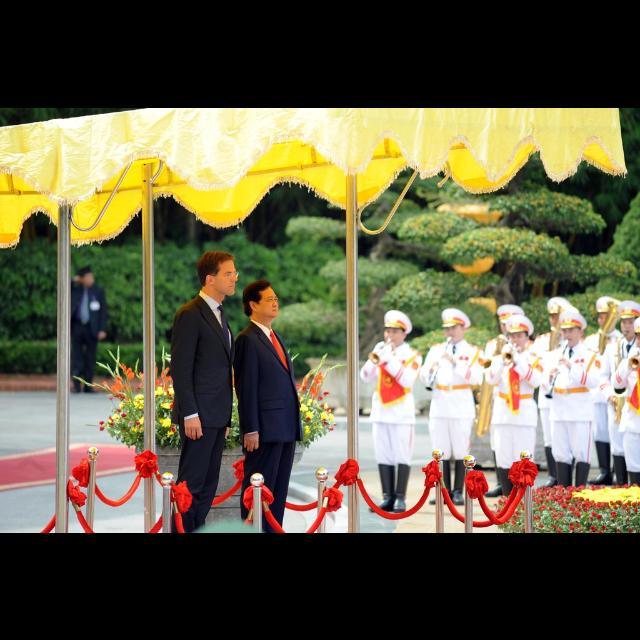Flower: (494, 484, 640, 532), (99, 362, 175, 436), (522, 291, 640, 333), (503, 188, 601, 226), (444, 226, 570, 254), (388, 272, 488, 304), (408, 326, 496, 356), (298, 370, 334, 432), (402, 212, 476, 240), (568, 256, 636, 276), (508, 460, 536, 482), (319, 408, 326, 418)
